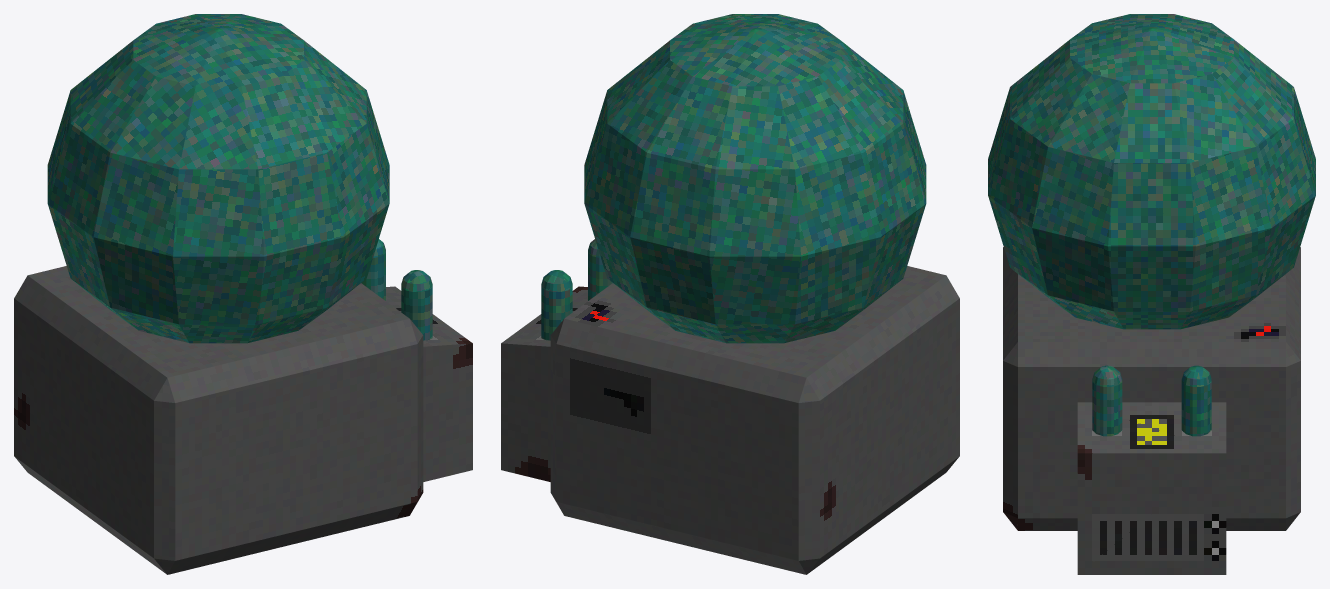
Rendered from BrainProcessor.gltf.
The picture shows the model from 3 angles, left to right: view 1: azimuth 30°, elevation 25°; view 2: azimuth 150°, elevation 25°; view 3: azimuth 270°, elevation 25°; orthographic projection. The views are drawn at different scales.
Parts seen in each view (by area): view 1: MachineBase, TheBowl, Tubes; view 2: MachineBase, TheBowl, Tubes; view 3: TheBowl, MachineBase, Tubes.
Part boxes in pixels (x1,y1,x2,y2): MachineBase: (14, 266, 472, 574); TheBowl: (47, 14, 389, 343); Tubes: (361, 239, 432, 340); MachineBase: (501, 266, 959, 574); TheBowl: (584, 14, 926, 343); Tubes: (541, 239, 612, 340); TheBowl: (988, 14, 1315, 329); MachineBase: (1003, 247, 1300, 574); Tubes: (1092, 365, 1211, 436).
Bounding box in the file's own units: 1.69 × 2.06 × 1.38.
5 materials, 5 textured.
